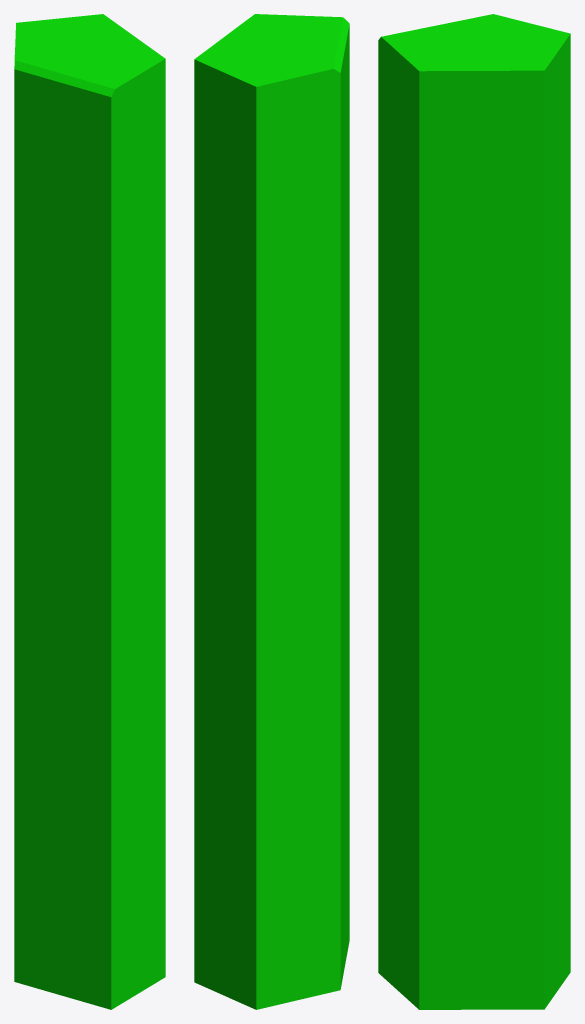
The picture shows the model from 3 angles, left to right: view 1: azimuth 30°, elevation 25°; view 2: azimuth 150°, elevation 25°; view 3: azimuth 270°, elevation 25°; orthographic projection. The views are drawn at different scales.
Parts seen in each view (by area): view 1: Plane.013; view 2: Plane.013; view 3: Plane.013.
Part boxes in pixels (x1=…): Plane.013: x1=14, y1=14, x2=165, y2=1009; Plane.013: x1=194, y1=14, x2=349, y2=1009; Plane.013: x1=378, y1=14, x2=570, y2=1009.
Size of the model in its own units: 1391 by 10333 by 1918.
